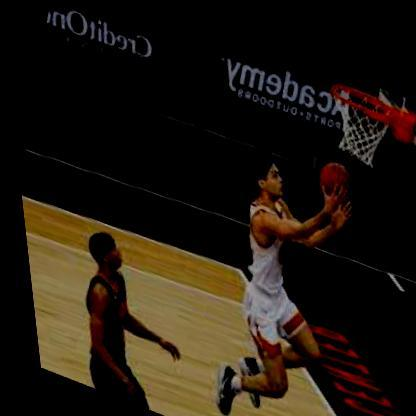basketball: (308, 145, 357, 200)
rim: (322, 68, 400, 119)
